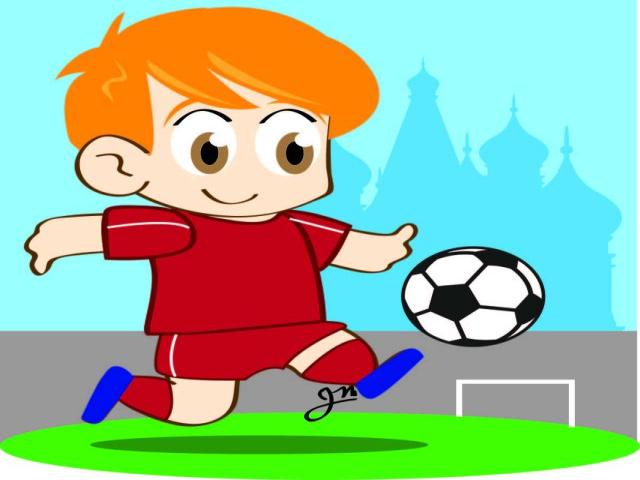round ball: (399, 245, 548, 348)
